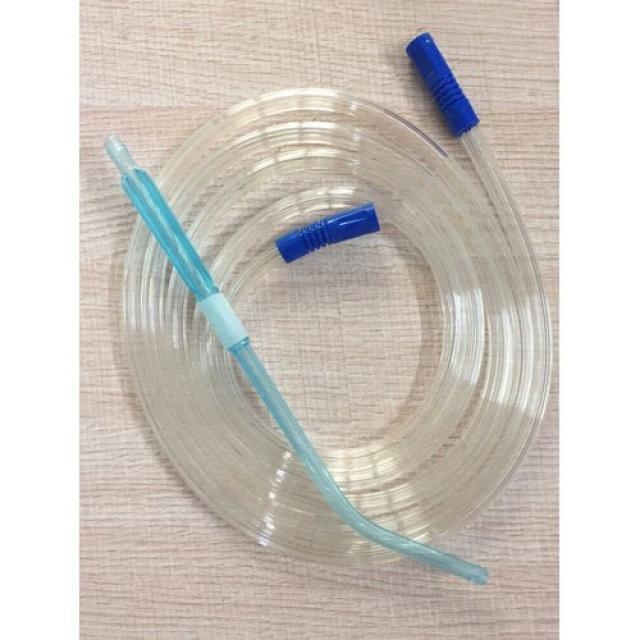Suction Tube Nozzle: (97, 28, 558, 588)
